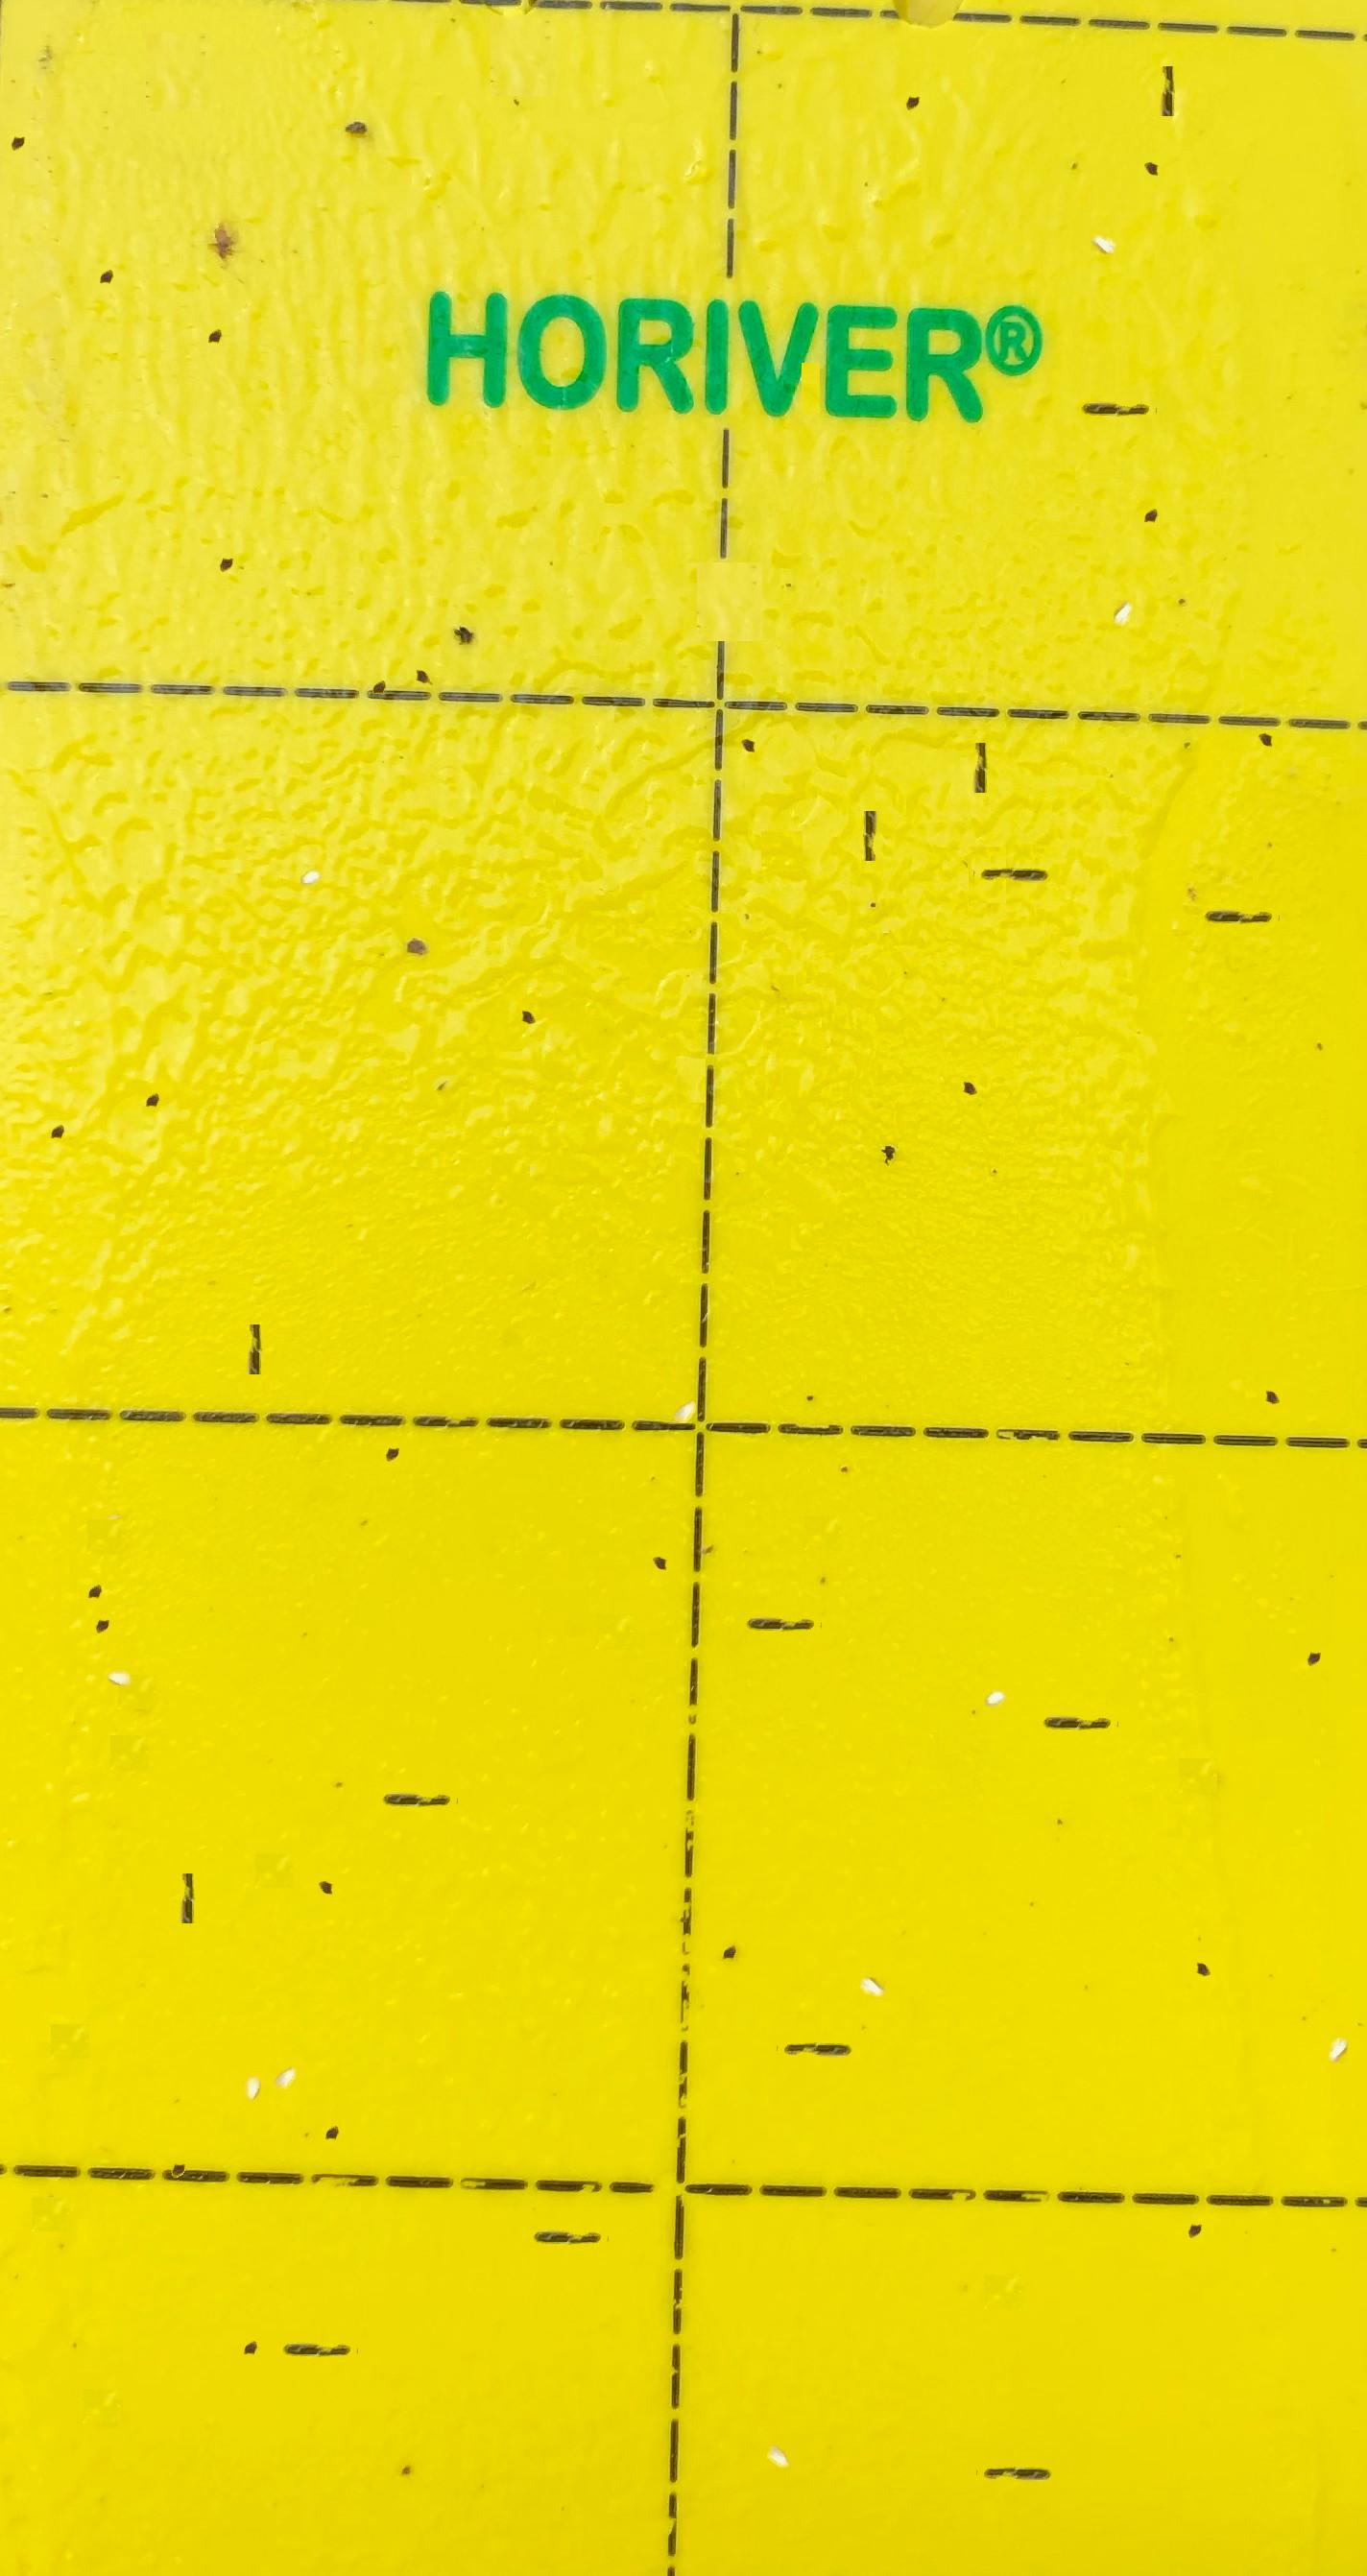white_fly: (975, 1627, 1018, 1675), (1086, 175, 1128, 221), (849, 1920, 891, 1966), (291, 806, 332, 854), (264, 2014, 307, 2058), (757, 2390, 799, 2435), (663, 1348, 706, 1392), (1105, 549, 1145, 595), (1316, 1980, 1357, 2024), (234, 2031, 276, 2068), (101, 1624, 141, 1661)
